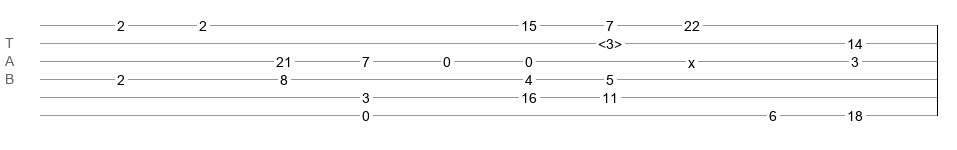0: (362, 108, 370, 118), (443, 54, 451, 64), (525, 54, 533, 64)
11: (602, 90, 618, 100)
14: (847, 36, 863, 46)
15: (521, 18, 537, 28)
16: (521, 90, 537, 100)
18: (847, 108, 863, 118)
2: (117, 18, 125, 28), (117, 72, 125, 82), (199, 18, 207, 28)
21: (276, 54, 292, 64)
22: (684, 18, 700, 28)
3: (362, 90, 370, 100), (851, 54, 859, 64)
4: (525, 72, 533, 82)
5: (606, 72, 614, 82)
6: (769, 108, 777, 118)
7: (362, 54, 370, 64), (606, 18, 614, 28)
8: (280, 72, 288, 82)
harmonic: (598, 36, 622, 46)
x: (688, 55, 695, 63)
